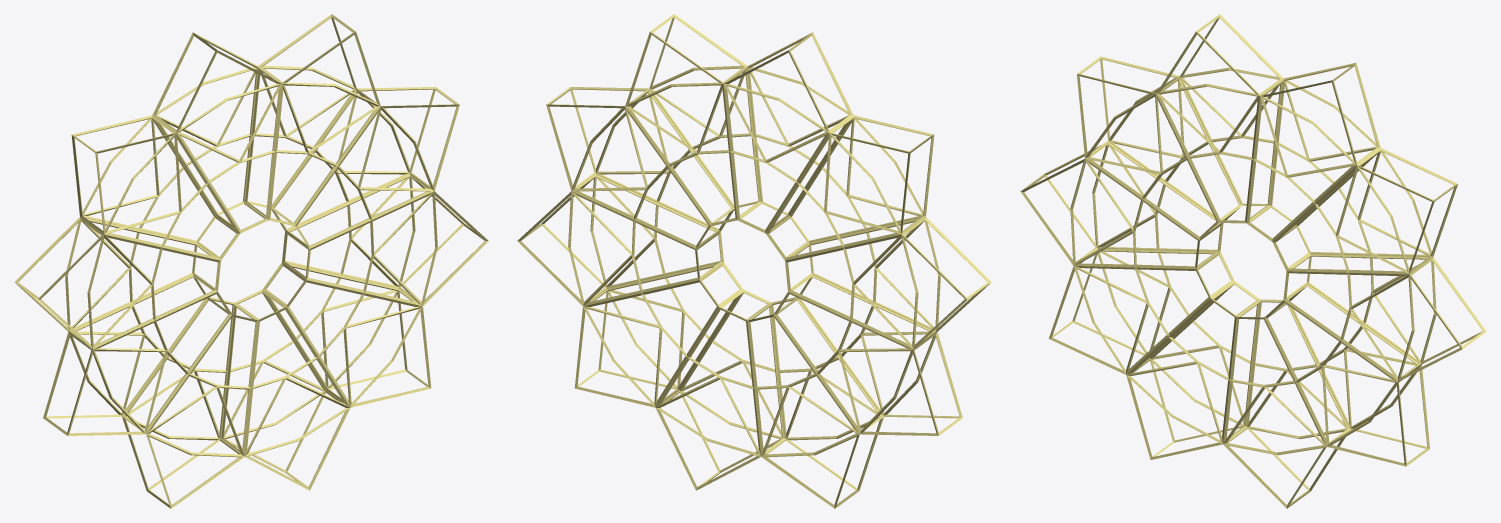
The model's file is ironbone.fbx.
The picture shows the model from 3 angles, left to right: view 1: azimuth 30°, elevation 25°; view 2: azimuth 150°, elevation 25°; view 3: azimuth 330°, elevation 25°; orthographic projection.
Visible parts, largest first — view 1: 立方体; view 2: 立方体; view 3: 立方体.
Boxes of the visible parts, x1=… form: 立方体: x1=14, y1=14, x2=488, y2=508; 立方体: x1=517, y1=14, x2=991, y2=508; 立方体: x1=1020, y1=14, x2=1486, y2=508.
Size of the model in its own units: 4791 by 4712 by 449.
